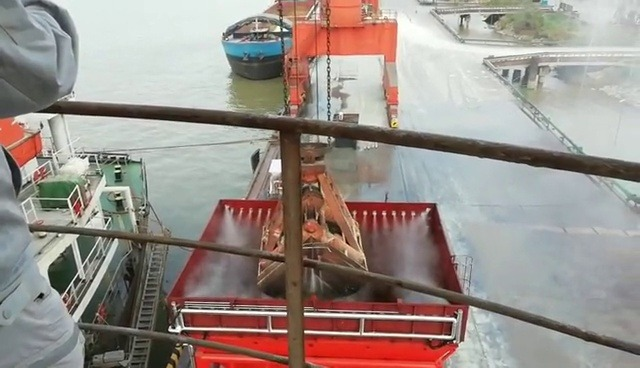dust: (171, 200, 460, 309)
grab: (251, 140, 369, 300)
